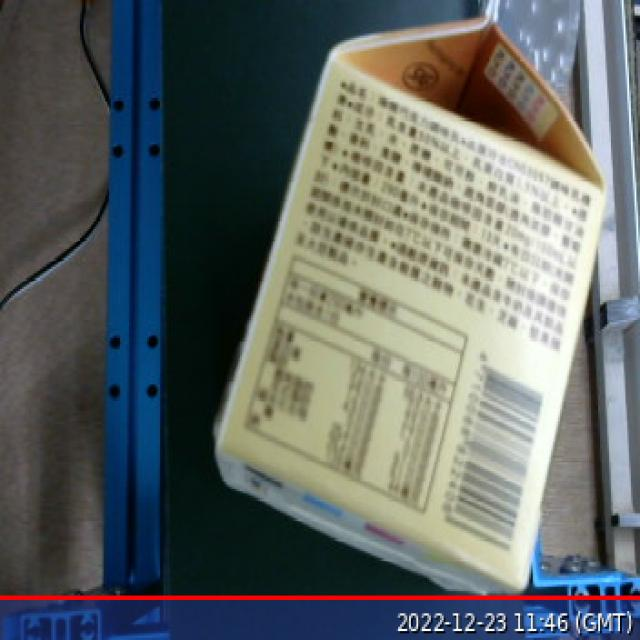non_white_jug: (163, 0, 623, 628)
